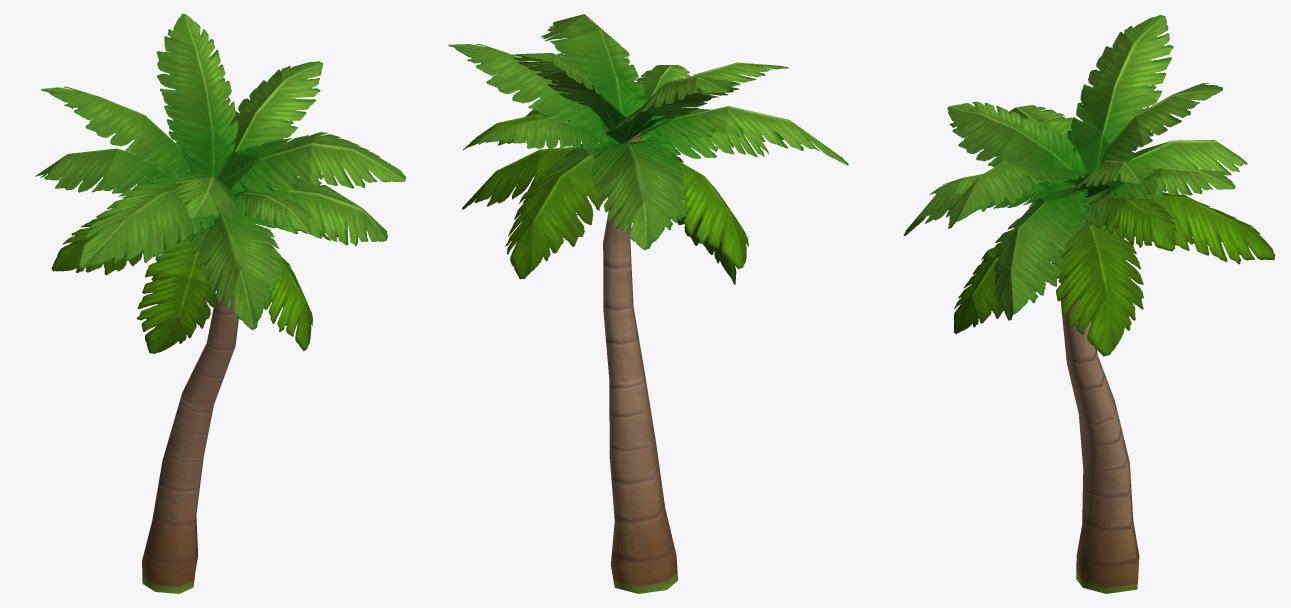
Rendered from wudaohui_yeshu01.FBX.
3 views of the same model, side by side, from view 1: azimuth 30°, elevation 25°; view 2: azimuth 150°, elevation 25°; view 3: azimuth 270°, elevation 25° (orthographic). The views are drawn at different scales.
Visible parts, largest first — view 1: wudaohui_yeshu01; view 2: wudaohui_yeshu01; view 3: wudaohui_yeshu01.
Part boxes in pixels (x1=…): wudaohui_yeshu01: x1=35, y1=14, x2=405, y2=593; wudaohui_yeshu01: x1=448, y1=14, x2=848, y2=593; wudaohui_yeshu01: x1=903, y1=15, x2=1275, y2=593.
Bounding box in the file's own units: 500 × 713 × 479.
